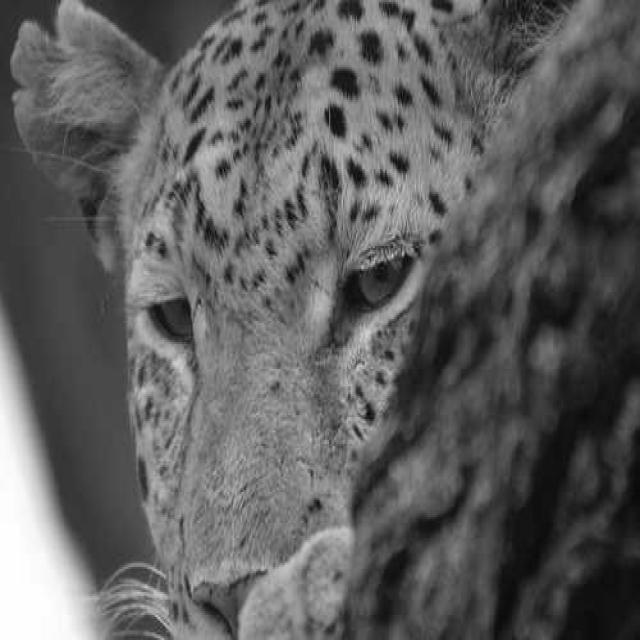Leopard: (8, 0, 572, 638)
